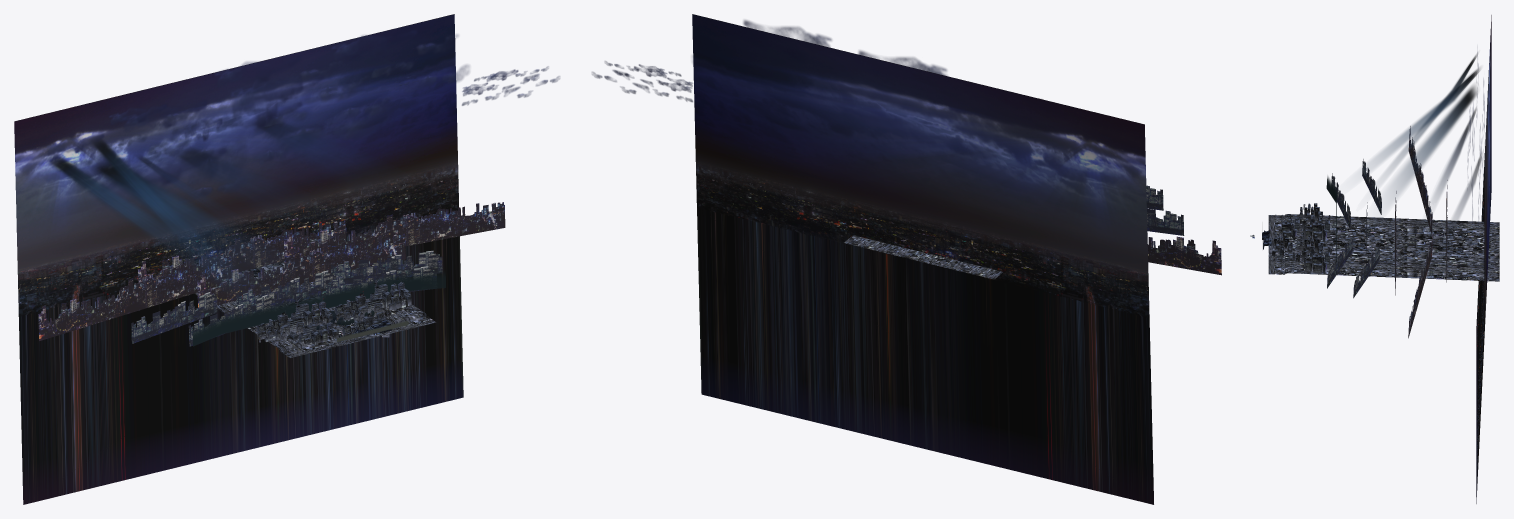
Rendered from Rooftop(night).glb.
3 renders of one model, left to right at view 1: azimuth 30°, elevation 25°; view 2: azimuth 150°, elevation 25°; view 3: azimuth 270°, elevation 25°, orthographic. The views are drawn at different scales.
Parts seen in each view (by area): view 1: 002, 008, 047, 049, 057, 009, 046, 006, 059, 052, 007, 058 (+15 smaller); view 2: 002, 008, 038, 044, 015, 047; view 3: 038, 002, 057, 062, 037, 035, 058, 036, 008, 009, 014, 055 (+4 smaller).
Boxes of the visible parts, <box> form: 002: <box>14,14,463,504</box>; 008: <box>38,256,231,341</box>; 047: <box>239,29,469,127</box>; 049: <box>97,101,388,202</box>; 057: <box>92,160,258,258</box>; 009: <box>284,202,505,262</box>; 046: <box>123,55,369,165</box>; 006: <box>197,233,405,307</box>; 059: <box>192,271,445,346</box>; 052: <box>183,79,303,185</box>; 007: <box>138,220,346,283</box>; 058: <box>46,154,201,264</box>; 002: <box>692,14,1153,504</box>; 008: <box>1147,236,1221,275</box>; 038: <box>844,235,1002,279</box>; 044: <box>592,66,692,102</box>; 015: <box>1147,208,1184,235</box>; 047: <box>692,20,831,61</box>; 038: <box>1268,214,1499,281</box>; 002: <box>1476,15,1491,503</box>; 057: <box>1391,85,1477,197</box>; 062: <box>1370,68,1479,166</box>; 037: <box>1296,203,1330,274</box>; 035: <box>1296,215,1330,260</box>; 058: <box>1386,54,1477,174</box>; 036: <box>1272,217,1303,261</box>; 008: <box>1408,126,1432,234</box>; 009: <box>1408,232,1432,338</box>; 014: <box>1353,244,1379,298</box>; 055: <box>1435,124,1468,199</box>.
Bounding box in the file's own units: 21466 × 13953 × 9817.
56 materials, 56 textured.
